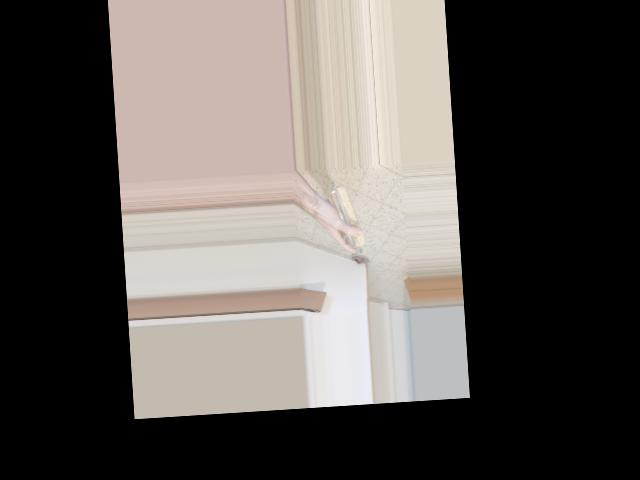cheese: (313, 190, 373, 259)
